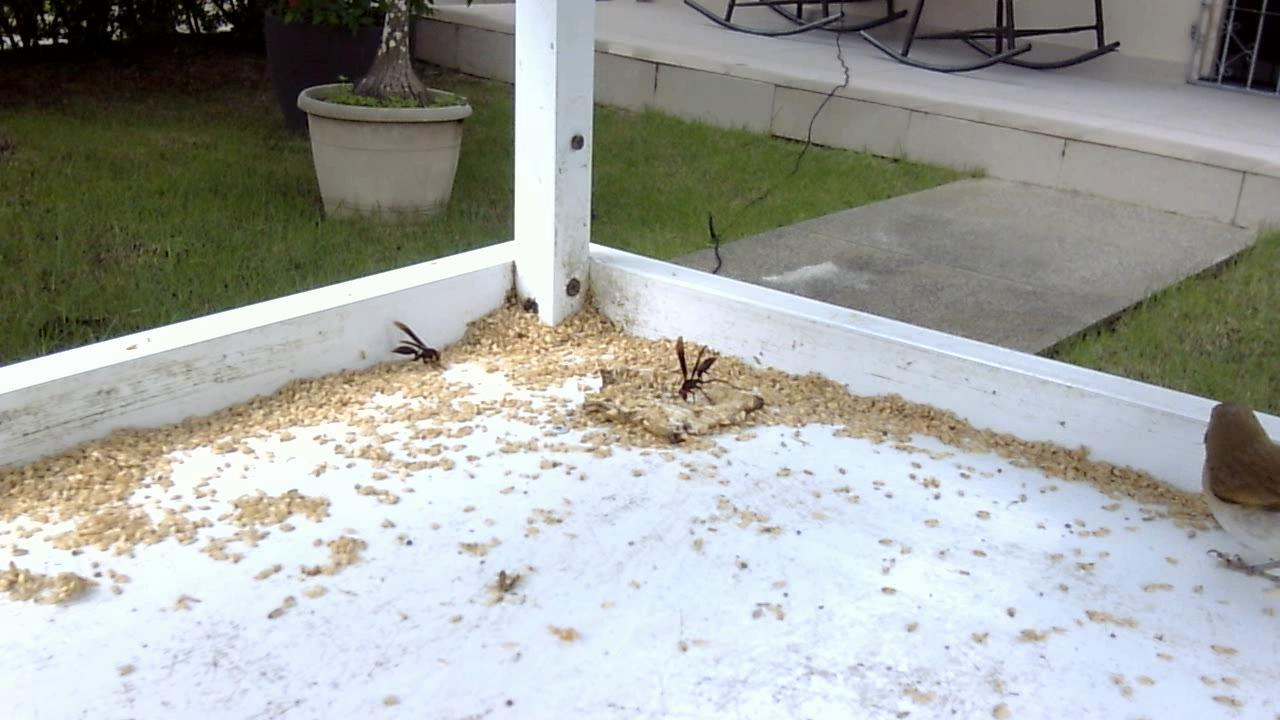canario_do_amazonas: (1186, 395, 1278, 584)
